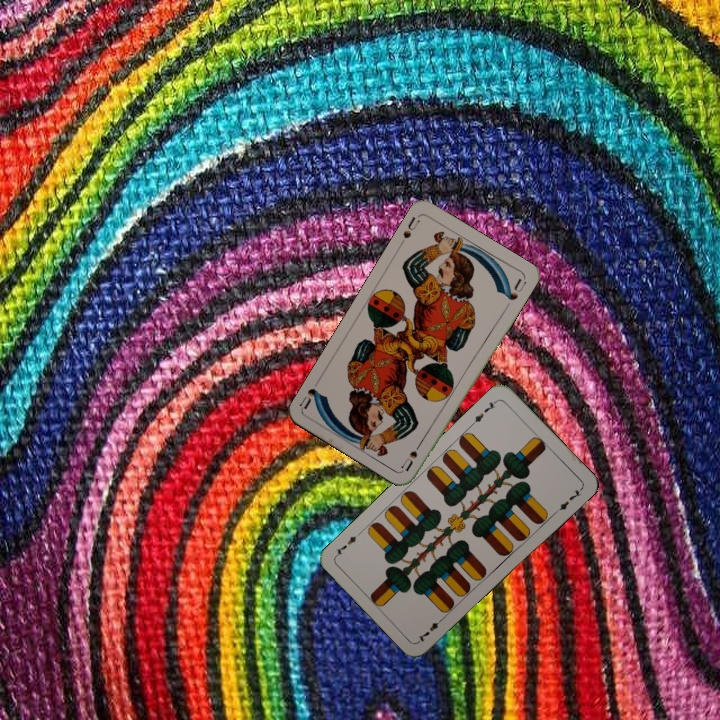E7: (467, 396, 500, 428), (414, 613, 447, 645)
SU: (398, 435, 426, 473), (399, 213, 422, 241)
